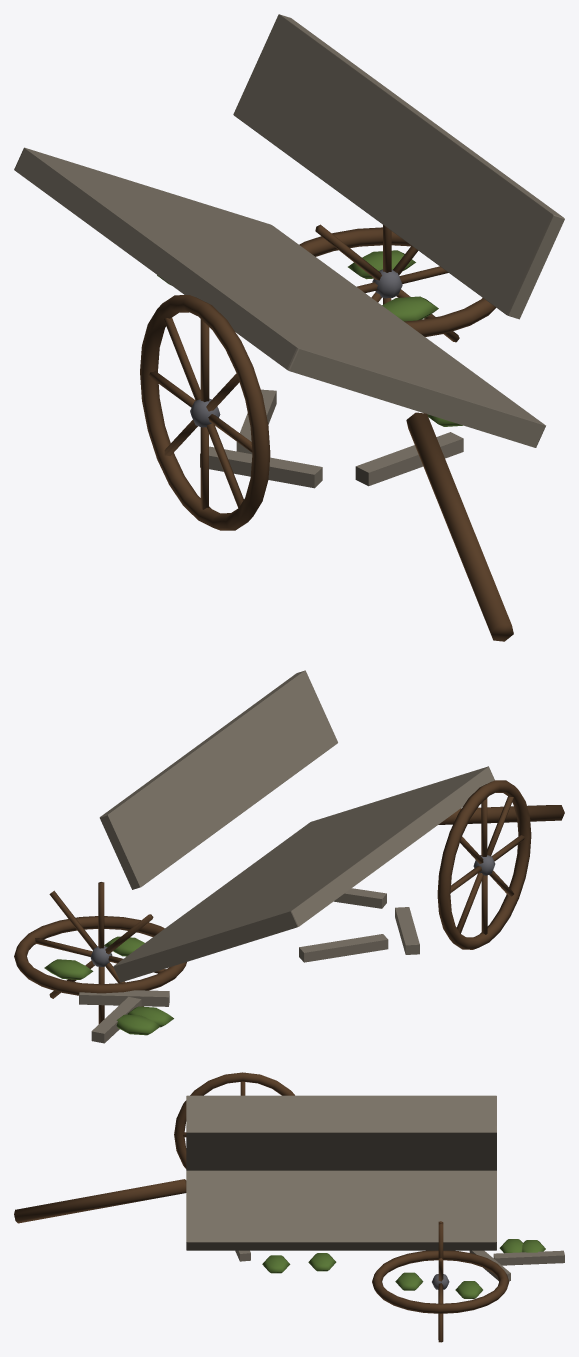
File: karren_kaputt.glb
3 renders of one model, top to bottom at view 1: azimuth 30°, elevation 25°; view 2: azimuth 150°, elevation 25°; view 3: azimuth 270°, elevation 25°, orthographic. The views are drawn at different scales.
Visible parts, largest first — view 1: Cube; view 2: Cube; view 3: Cube.
Boxes of the visible parts, left/top/right/bottom form: Cube: left=14, top=14, right=564, bottom=641; Cube: left=14, top=670, right=564, bottom=1043; Cube: left=14, top=1072, right=564, bottom=1342.
Bounding box in the file's own units: 2.2 × 1.54 × 3.9.
